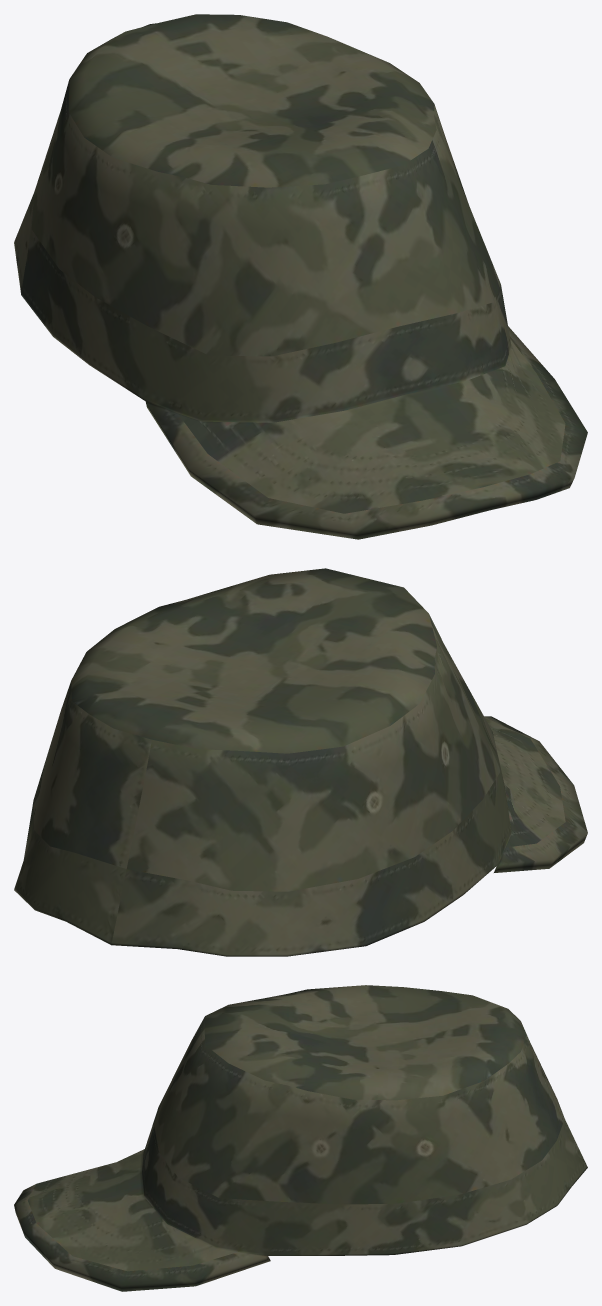
File: mindfront-patrol-cap.glb
3 views of the same model, one above another, from view 1: azimuth 30°, elevation 25°; view 2: azimuth 150°, elevation 25°; view 3: azimuth 270°, elevation 25° (orthographic). The views are drawn at different scales.
Visible parts, largest first — view 1: Human.mindfront_patrol_cap; view 2: Human.mindfront_patrol_cap; view 3: Human.mindfront_patrol_cap.
Part boxes in pixels (x1,y1,x2,y2): Human.mindfront_patrol_cap: (14,14,587,539); Human.mindfront_patrol_cap: (14,568,587,956); Human.mindfront_patrol_cap: (14,985,587,1291).
Bounding box in the file's own units: 0.1593 × 0.1129 × 0.2822.
Materials: 1 (1 with a texture image).
